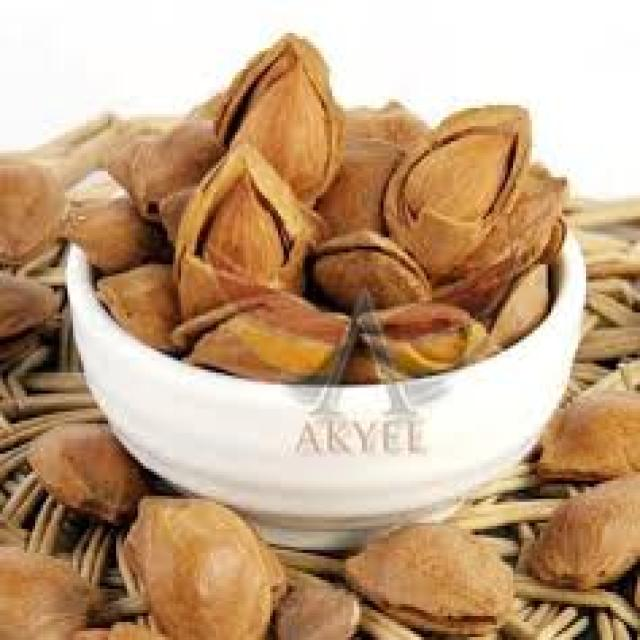cekirdek: (389, 107, 534, 275), (350, 527, 510, 629)
